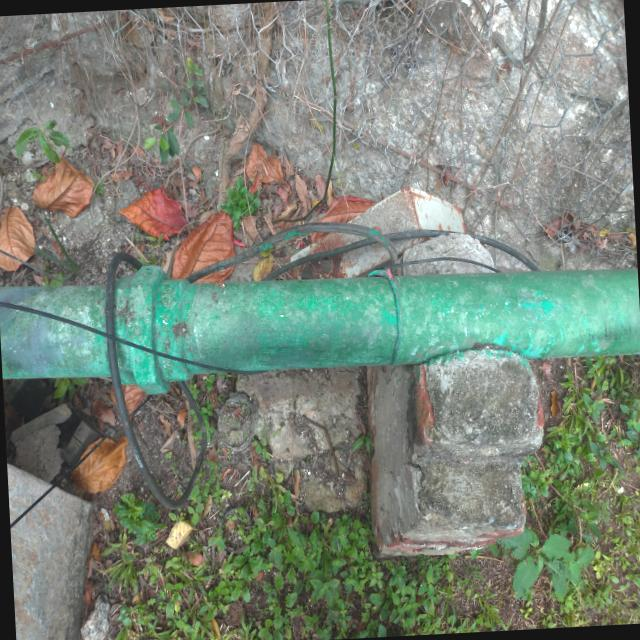gas: (8, 269, 637, 375)
